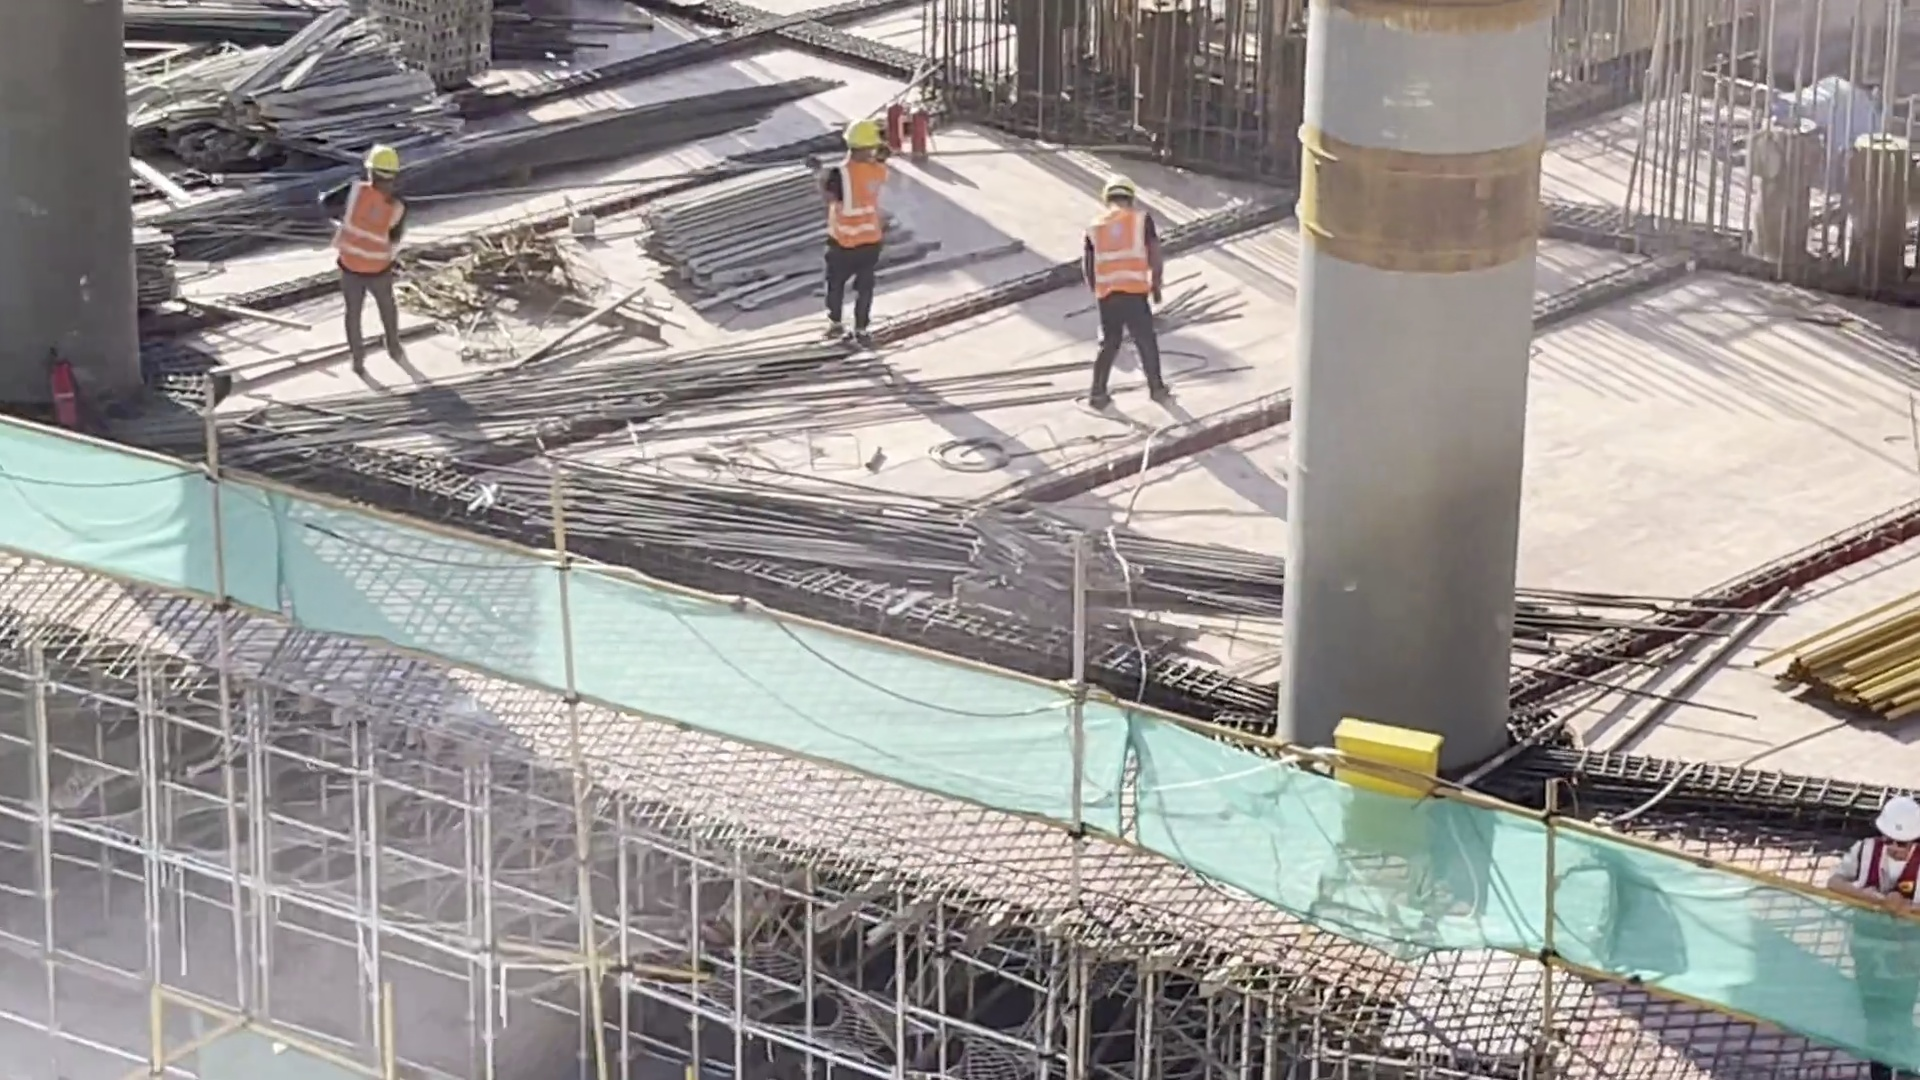helmet: (1871, 790, 1920, 842), (838, 113, 890, 161), (1097, 175, 1130, 198), (365, 146, 392, 174)
person: (1073, 161, 1171, 406), (810, 102, 892, 361), (329, 134, 417, 353), (1855, 782, 1920, 1080)
vest: (1854, 834, 1920, 988), (1085, 212, 1153, 308), (827, 156, 886, 249), (337, 181, 394, 271)
